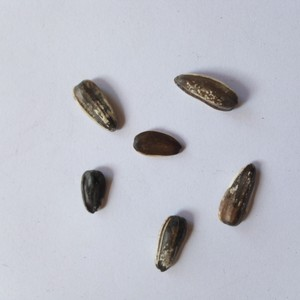girasol: (217, 161, 262, 228), (66, 79, 121, 133), (171, 70, 240, 112), (154, 214, 191, 274), (132, 129, 185, 158), (78, 168, 109, 215)
